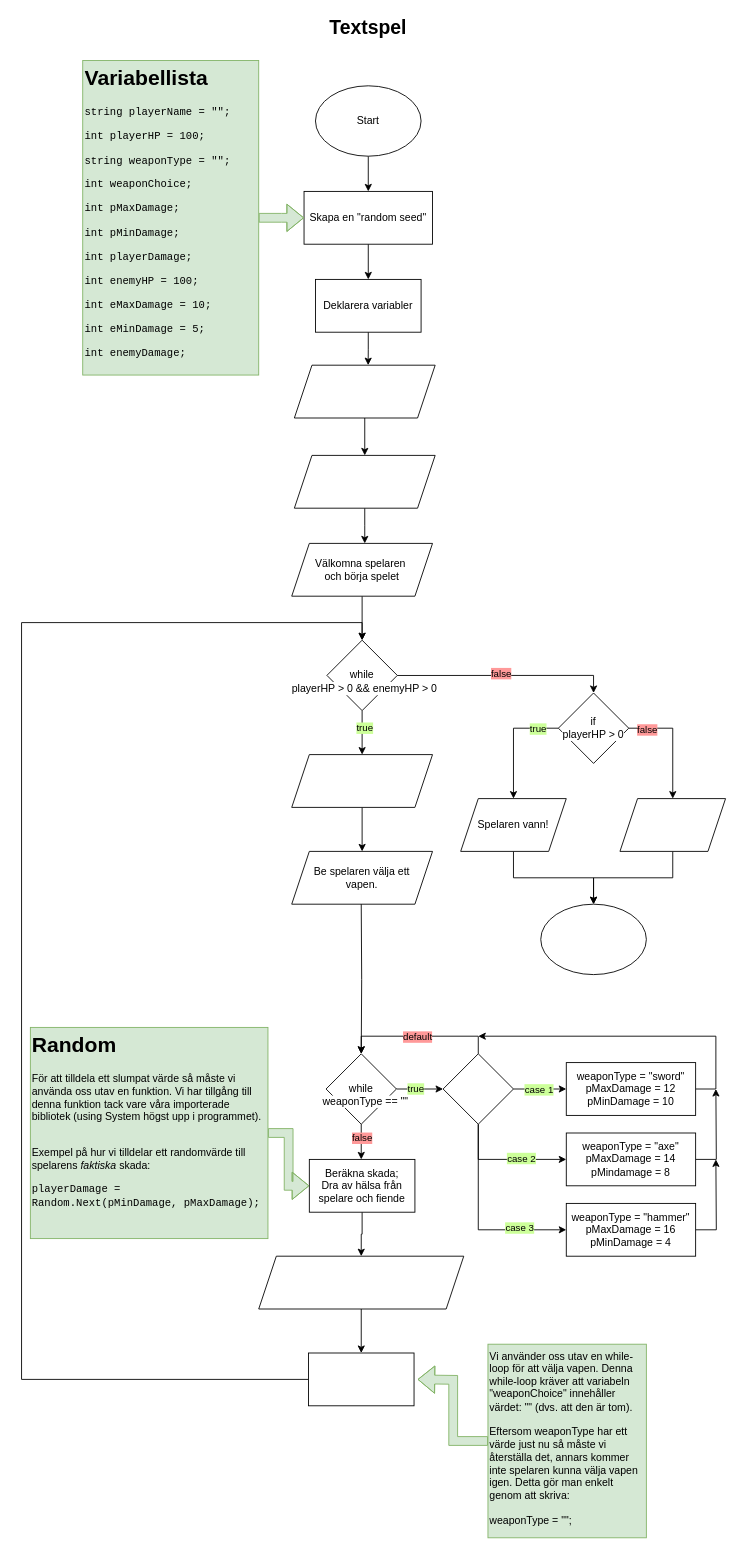
This 741x1555 diagram has some shape labels left out. Each missing label, with the centre of its shape:
Be om spelarens namn IN: playerName: pixel 364 481
Skriv ut hur mycket skada spelaren gjorde och hur mycket skada fienden gjorde: pixel 361 1282
Skriv ut spelaren och fiendens hälsa: pixel 362 780
Slut: pixel 593 939
Spelaren förlorade: pixel 672 824
switch weaponChoice: pixel 477 1088
Välkomna spelaren och förklara reglerna: pixel 364 391
Återställ relevanta variabler: pixel 361 1379
